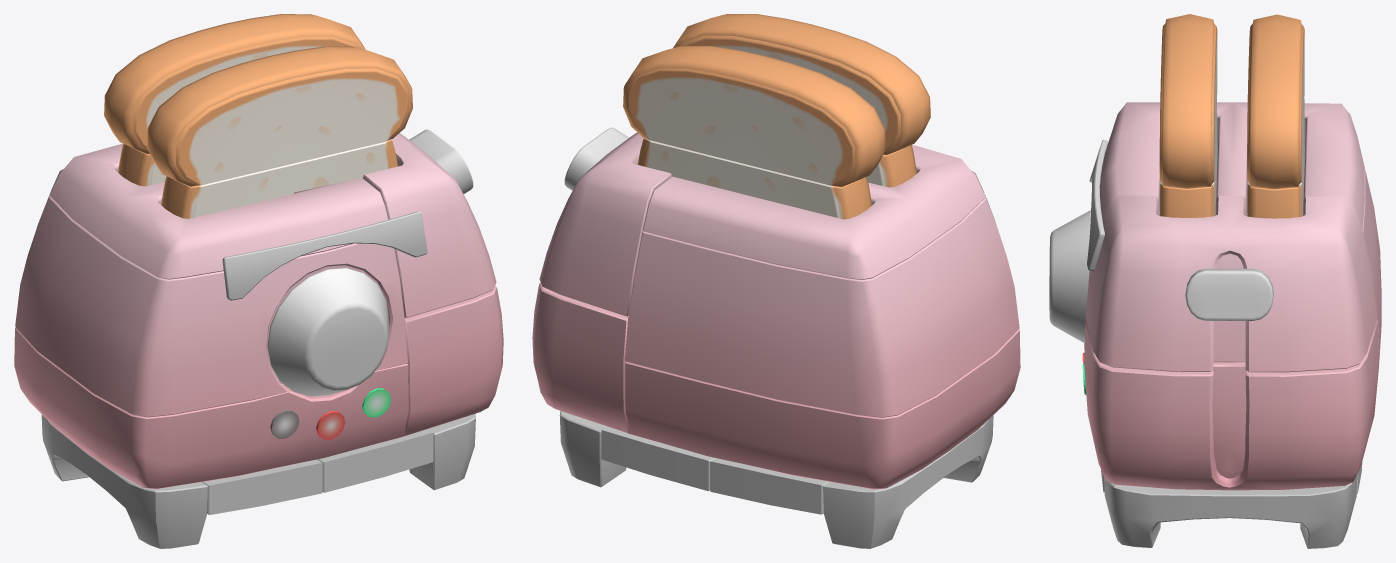
File: level_183.fbx
The picture shows the model from 3 angles, left to right: view 1: azimuth 30°, elevation 25°; view 2: azimuth 150°, elevation 25°; view 3: azimuth 270°, elevation 25°; orthographic projection.
Visible parts, largest first — view 1: Cube_L3_4.002, Cube_L3_2.002, Cube_L1_4.002, Cube_L3_3.002, Cube_L2_3.002, Cube_L1_3.002, Cube_L3_1.002, Cube_L3.002, Cube_L2_5.002, Cube_L1_1.002, Cube_L1_2.002, Cube_L2_4.002 (+4 smaller); view 2: Cube_L3_4.002, Cube_L3_2.002, Cube_L1_3.002, Cube_L3_3.002, Cube_L3_1.002, Cube_L1_4.002, Cube_L3.002, Cube_L2_5.002, Cube_L1.002, Cube_L2_4.002, Cube_L2_2.002, Cube_L2_1.002 (+2 smaller); view 3: Cube_L3_1.002, Cube_L3.002, Cube_L3_3.002, Cube_L2_1.002, Cube_L1_4.002, Cube_L1_3.002, Cube_L2_3.002, Cube_L2.002, Cube_L1.002, Cube_L1_1.002, Cube_L3_4.002, Cube_L1_2.002.
Boxes of the visible parts, bbox=[...] form: Cube_L3_4.002: bbox=[15, 192, 407, 417]; Cube_L3_2.002: bbox=[14, 327, 408, 489]; Cube_L1_4.002: bbox=[147, 46, 412, 186]; Cube_L3_3.002: bbox=[50, 143, 388, 279]; Cube_L2_3.002: bbox=[267, 268, 388, 396]; Cube_L1_3.002: bbox=[104, 14, 365, 154]; Cube_L3_1.002: bbox=[363, 133, 496, 318]; Cube_L3.002: bbox=[403, 285, 503, 436]; Cube_L2_5.002: bbox=[41, 414, 207, 548]; Cube_L1_1.002: bbox=[161, 139, 397, 218]; Cube_L1_2.002: bbox=[222, 211, 427, 300]; Cube_L2_4.002: bbox=[202, 459, 322, 514]; Cube_L3_4.002: bbox=[625, 194, 1019, 417]; Cube_L3_2.002: bbox=[625, 329, 1020, 489]; Cube_L1_3.002: bbox=[623, 46, 885, 187]; Cube_L3_3.002: bbox=[643, 144, 985, 279]; Cube_L3_1.002: bbox=[539, 132, 672, 316]; Cube_L1_4.002: bbox=[673, 14, 930, 155]; Cube_L3.002: bbox=[532, 282, 630, 433]; Cube_L2_5.002: bbox=[823, 415, 993, 548]; Cube_L1.002: bbox=[637, 138, 871, 219]; Cube_L2_4.002: bbox=[710, 458, 829, 514]; Cube_L2_2.002: bbox=[601, 426, 715, 491]; Cube_L2_1.002: bbox=[559, 411, 626, 487]; Cube_L3_1.002: bbox=[1085, 195, 1377, 372]; Cube_L3.002: bbox=[1084, 321, 1378, 490]; Cube_L3_3.002: bbox=[1099, 102, 1364, 230]; Cube_L2_1.002: bbox=[1104, 474, 1357, 548]; Cube_L1_4.002: bbox=[1159, 14, 1217, 188]; Cube_L1_3.002: bbox=[1247, 14, 1304, 189]; Cube_L2_3.002: bbox=[1049, 210, 1090, 343]; Cube_L2.002: bbox=[1185, 268, 1273, 320]; Cube_L1.002: bbox=[1247, 99, 1304, 218]; Cube_L1_1.002: bbox=[1160, 105, 1217, 217]; Cube_L3_4.002: bbox=[1084, 139, 1381, 362]; Cube_L1_2.002: bbox=[1087, 139, 1107, 271].
Size of the model in its own units: 14.97 by 15.81 by 11.14.
